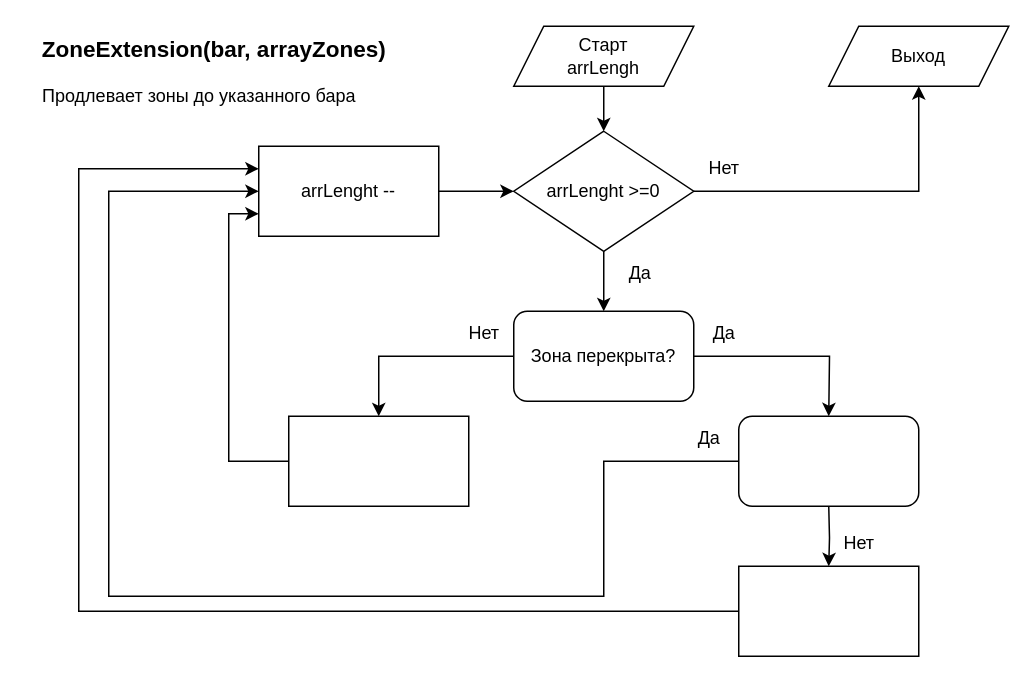
Some shapes in this 1035 by 683 pixel diagram are drawn without their labels. Each missing label, with the centre of its shape:
Зона финализирована?: the point at 828,460
продлеваем: the point at 378,460
продлеваем финализируем: the point at 828,610
